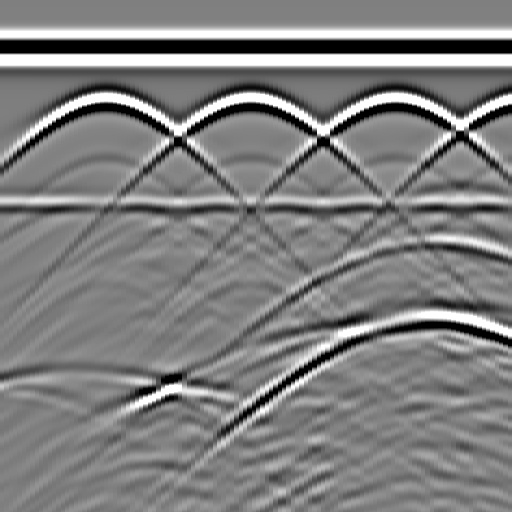grout_surface: (1, 191, 512, 221)
rebar: (84, 81, 124, 121), (228, 81, 268, 121), (372, 81, 412, 121), (502, 81, 512, 121)
rock_surface: (1, 312, 511, 392)
water_void: (401, 218, 461, 258)
